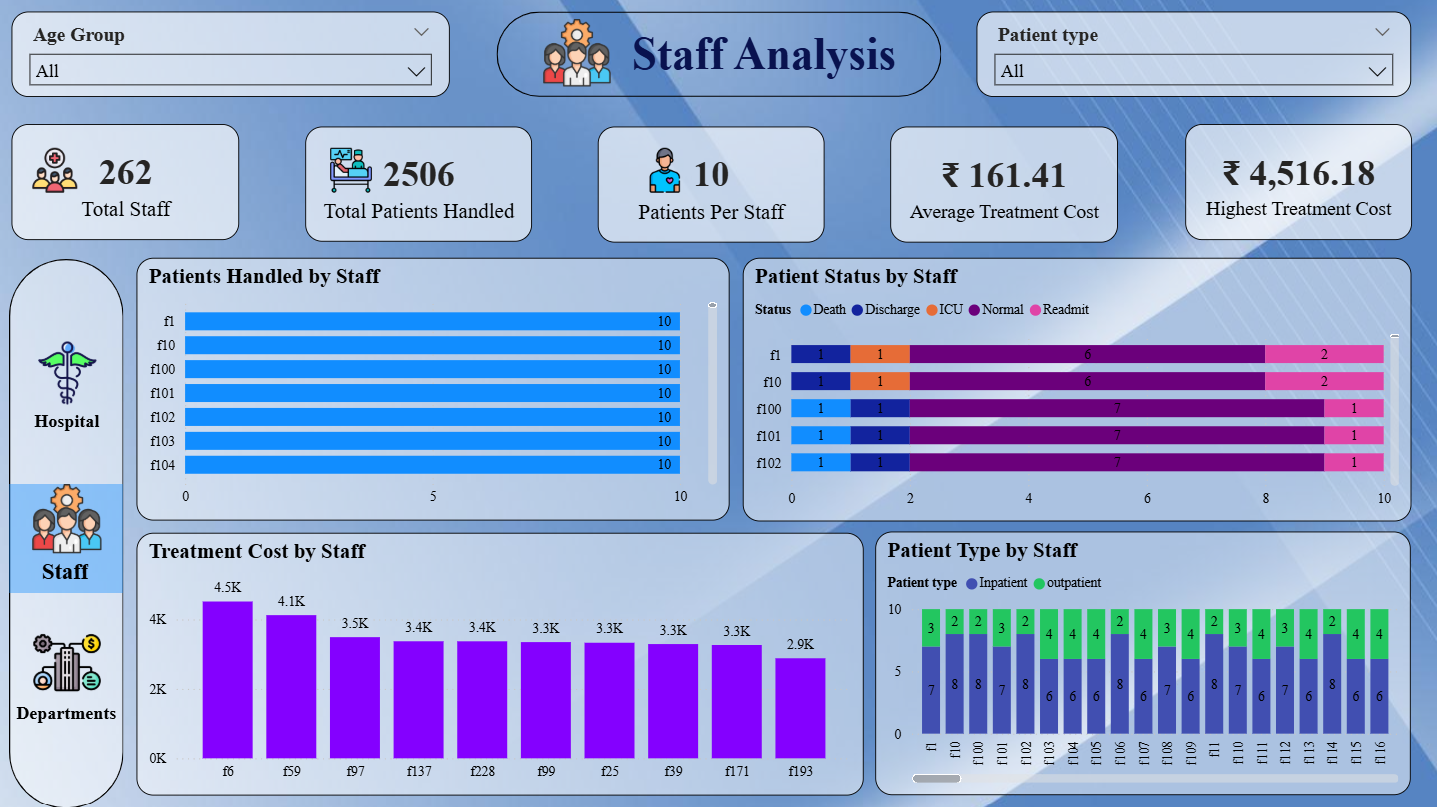

This screenshot's page, from the dashboard's own definition file:
{"tool":"powerbi","page":{"name":"Staff Analysis","canvas":[1280,720],"ordinal":1},"visuals":[{"type":"shape","box":[442.2,10.7,395.6,75.8],"z":0,"group":"g4"},{"type":"group","id":"g1","title":"Group 2","box":[9.1,230.9,103.3,489.1],"z":0},{"type":"shape","box":[9.1,230.9,101.9,489.1],"z":0,"group":"g1"},{"type":"shape","box":[10.7,360.1,98.3,29.6],"z":0,"group":"g5"},{"type":"card","fields":{"Values":["Measure.Total Patients Handled"]},"box":[272,113.6,201.6,102.3],"z":1000},{"type":"image","box":[9.5,304.4,101.9,55.7],"z":1000,"group":"g5"},{"type":"group","id":"g2","title":"Group 5","box":[9.4,560.2,103,90],"z":1000,"group":"g1"},{"type":"card","fields":{"Values":["Measure.Average Treatment Cost"]},"box":[792.7,113,202.5,103],"z":2000},{"type":"group","id":"g3","title":"Group 4","box":[9.4,431.1,100.7,95.9],"z":2000,"group":"g1"},{"type":"image","box":[473,17.8,80.5,60.4],"z":3000,"group":"g4"},{"type":"card","fields":{"Values":["Measure.Total Staff"]},"box":[10.7,111.3,202.5,103],"z":3000},{"type":"card","fields":{"Values":["Measure.Highest Treatment Cost"]},"box":[1054,111.3,201.3,103],"z":4000},{"type":"card","fields":{"Values":["Measure.Patients Per Staff"]},"box":[532.5,113,201.3,103],"z":5000},{"type":"image","box":[11.7,431.1,98.3,61.6],"z":5000,"group":"g3"},{"type":"slicer","fields":{"Values":["Detail data dataset.Age Group"]},"box":[10.7,10.7,389.6,75.8],"z":6000},{"type":"slicer","fields":{"Values":["Detail data dataset.Patient type"]},"box":[869.3,10.7,386.1,75.8],"z":7000},{"type":"image","box":[9.4,560.2,103,60.4],"z":7000,"group":"g2"},{"type":"group","id":"g4","title":"Group 1","box":[442.2,10.7,395.6,75.8],"z":8000},{"type":"clusteredBarChart","title":"Patients Handled by Staff","fields":{"Y":["Measure.Total Patients Handled"],"Category":["Staff_Detail.Staff Name"]},"box":[122,229.8,527,233.3],"z":9000},{"type":"shape","box":[9.4,497.4,99.5,29.6],"z":9000,"group":"g3"},{"type":"barChart","title":"Patient Status by Staff","fields":{"Category":["Staff_Detail.Staff Name"],"Y":["CountNonNull(Detail data dataset.ID)"],"Series":["Detail data dataset.Status"]},"box":[660.8,229.8,594.5,234.5],"z":10000},{"type":"columnChart","title":"Treatment Cost by Staff","fields":{"Category":["Staff_Detail.Staff Name"],"Y":["Sum(Detail data dataset.treatemencost)"]},"box":[122,474.9,646.6,233.3],"z":11000},{"type":"shape","box":[9.4,620.6,101.9,29.6],"z":11000,"group":"g2"},{"type":"columnChart","title":"Patient Type by Staff","fields":{"Category":["Staff_Detail.Staff Name"],"Y":["CountNonNull(Detail data dataset.ID)"],"Series":["Detail data dataset.Patient type"]},"box":[779.3,473.7,476.1,234.5],"z":12000},{"type":"group","id":"g5","title":"Group 3","box":[9.5,304.4,101.9,85.3],"z":13002},{"type":"image","box":[20.1,132.6,59.2,40.3],"z":13003},{"type":"image","box":[283,132.6,59.2,40.3],"z":13004},{"type":"image","box":[562.5,132.6,59.2,40.3],"z":13005}]}

Visuals, with their boxes in screenshot pixels (x1, y1, x2, y2), scaled from the page's 1280x720 canvas onto the 1437x807 screenshot:
shape: [x1=496, y1=12, x2=941, y2=97]
"Group 2" group: [x1=10, y1=259, x2=126, y2=806]
shape: [x1=10, y1=259, x2=125, y2=806]
shape: [x1=12, y1=404, x2=122, y2=437]
card - Measure.Total Patients Handled: [x1=305, y1=127, x2=532, y2=242]
image: [x1=11, y1=341, x2=125, y2=404]
"Group 5" group: [x1=11, y1=628, x2=126, y2=729]
card - Measure.Average Treatment Cost: [x1=890, y1=127, x2=1117, y2=242]
"Group 4" group: [x1=11, y1=483, x2=124, y2=591]
image: [x1=531, y1=20, x2=621, y2=88]
card - Measure.Total Staff: [x1=12, y1=125, x2=239, y2=240]
card - Measure.Highest Treatment Cost: [x1=1183, y1=125, x2=1409, y2=240]
card - Measure.Patients Per Staff: [x1=598, y1=127, x2=824, y2=242]
image: [x1=13, y1=483, x2=123, y2=552]
slicer - Detail data dataset.Age Group: [x1=12, y1=12, x2=449, y2=97]
slicer - Detail data dataset.Patient type: [x1=976, y1=12, x2=1409, y2=97]
image: [x1=11, y1=628, x2=126, y2=696]
"Group 1" group: [x1=496, y1=12, x2=941, y2=97]
"Patients Handled by Staff" clusteredBarChart: [x1=137, y1=258, x2=729, y2=519]
shape: [x1=11, y1=558, x2=122, y2=591]
"Patient Status by Staff" barChart: [x1=742, y1=258, x2=1409, y2=520]
"Treatment Cost by Staff" columnChart: [x1=137, y1=532, x2=863, y2=794]
shape: [x1=11, y1=696, x2=125, y2=729]
"Patient Type by Staff" columnChart: [x1=875, y1=531, x2=1409, y2=794]
"Group 3" group: [x1=11, y1=341, x2=125, y2=437]
image: [x1=23, y1=149, x2=89, y2=194]
image: [x1=318, y1=149, x2=384, y2=194]
image: [x1=631, y1=149, x2=698, y2=194]
